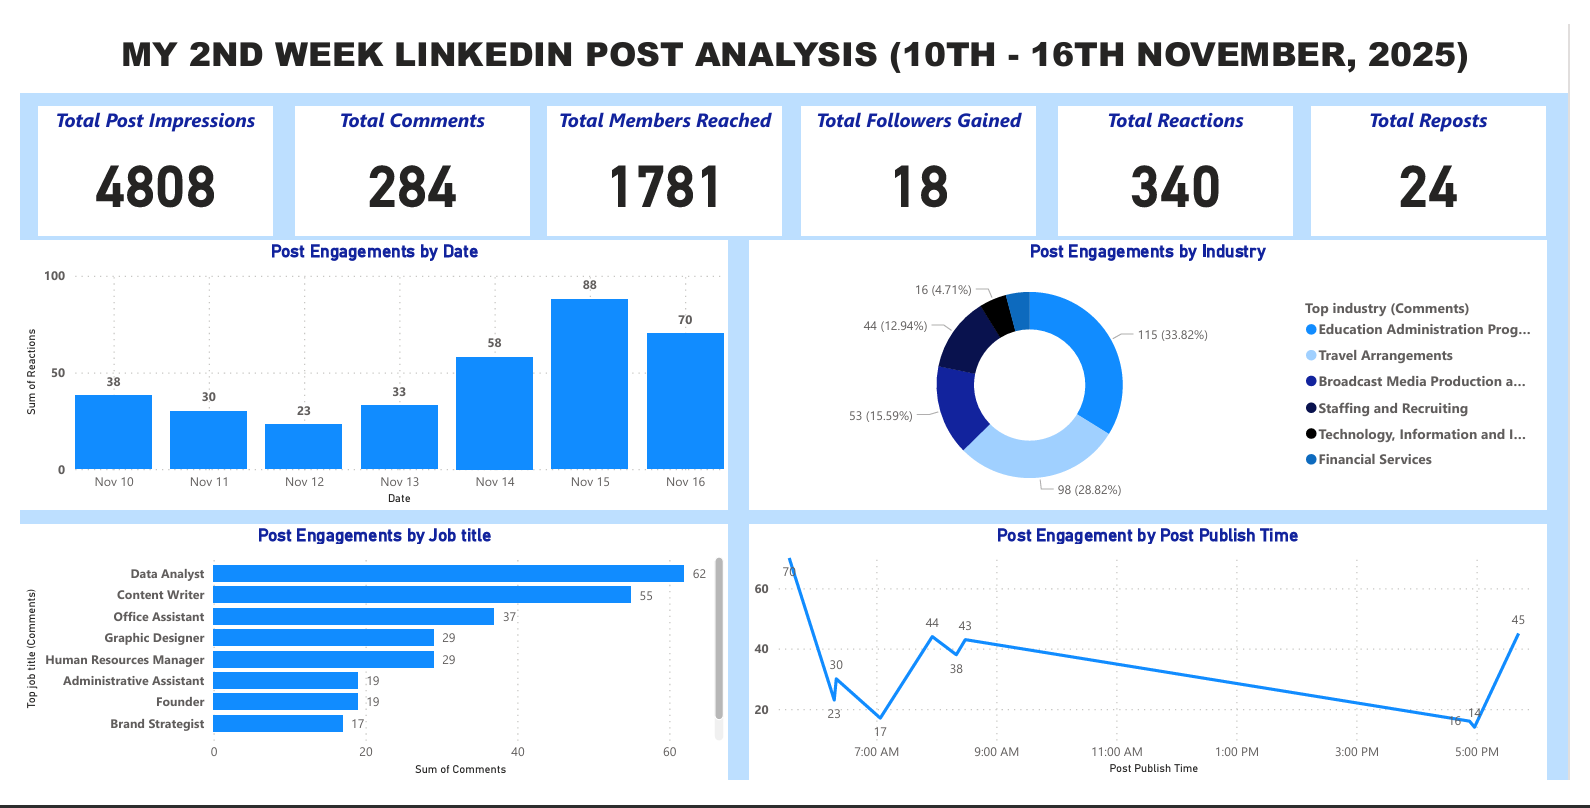

The dashboard page shown, as its layout file describes it:
{"tool":"powerbi","page":{"name":"Page 1","canvas":[1500,732],"ordinal":0},"visuals":[{"type":"textbox","box":[0,0,1500.6,64.6],"z":0},{"type":"card","title":"Total Post Impressions","fields":{"Values":["Sum(POST IMPRESSIONS.Impressions)"]},"box":[16.6,79.4,227,125.5],"z":1000},{"type":"card","title":"Total Comments","fields":{"Values":["Sum(POST IMPRESSIONS.Comments)"]},"box":[265.8,79.4,227,125.5],"z":2000},{"type":"card","title":"Total Members Reached","fields":{"Values":["Sum(POST IMPRESSIONS.Members reached)"]},"box":[511.3,79.4,227,125.5],"z":3000},{"type":"card","title":"Total Followers Gained","fields":{"Values":["Sum(POST IMPRESSIONS.Followers gained from this post)"]},"box":[756.8,79.4,227,125.5],"z":4000},{"type":"card","title":"Total Reactions","fields":{"Values":["Sum(POST IMPRESSIONS.Reactions)"]},"box":[1006,79.4,227,125.5],"z":5000},{"type":"card","title":"Total Reposts","fields":{"Values":["Sum(POST IMPRESSIONS.Reposts)"]},"box":[1251.5,79.4,227,125.5],"z":6000},{"type":"clusteredColumnChart","title":"Post Engagements by Date","fields":{"Category":["DEMOGRAPHICS.Date"],"Y":["Sum(POST IMPRESSIONS.Reactions)"]},"box":[0,208.9,685.9,261.5],"z":7000},{"type":"clusteredBarChart","title":"Post Engagements by  Job title ","fields":{"Y":["Sum(POST IMPRESSIONS.Comments)"],"Category":["POST IMPRESSIONS.Top job title (Comments)"]},"box":[0,483.6,685.9,248.4],"z":8000},{"type":"donutChart","title":"Post Engagements  by Industry","fields":{"Category":["POST IMPRESSIONS.Top industry (Comments)"],"Y":["Sum(POST IMPRESSIONS.Reactions)"]},"box":[705.7,208.9,773.1,261.5],"z":9000},{"type":"lineChart","title":"Post Engagement by Post Publish Time","fields":{"Category":["POST IMPRESSIONS.Post Publish Time"],"Y":["Sum(POST IMPRESSIONS.Reactions)"]},"box":[705.7,483.6,773.1,248.4],"z":10000}]}

Visuals, with their boxes on the page's 1500x732 design canvas (x1, y1, x2, y2). These are canvas units, not pixel positions in the 1590x808 screenshot, which may show the page scaled, cropped or inside an application window:
textbox: <bbox>0, 0, 1501, 65</bbox>
"Total Post Impressions" card: <bbox>17, 79, 244, 205</bbox>
"Total Comments" card: <bbox>266, 79, 493, 205</bbox>
"Total Members Reached" card: <bbox>511, 79, 738, 205</bbox>
"Total Followers Gained" card: <bbox>757, 79, 984, 205</bbox>
"Total Reactions" card: <bbox>1006, 79, 1233, 205</bbox>
"Total Reposts" card: <bbox>1252, 79, 1478, 205</bbox>
"Post Engagements by Date" clusteredColumnChart: <bbox>0, 209, 686, 470</bbox>
"Post Engagements by  Job title " clusteredBarChart: <bbox>0, 484, 686, 732</bbox>
"Post Engagements  by Industry" donutChart: <bbox>706, 209, 1479, 470</bbox>
"Post Engagement by Post Publish Time" lineChart: <bbox>706, 484, 1479, 732</bbox>
